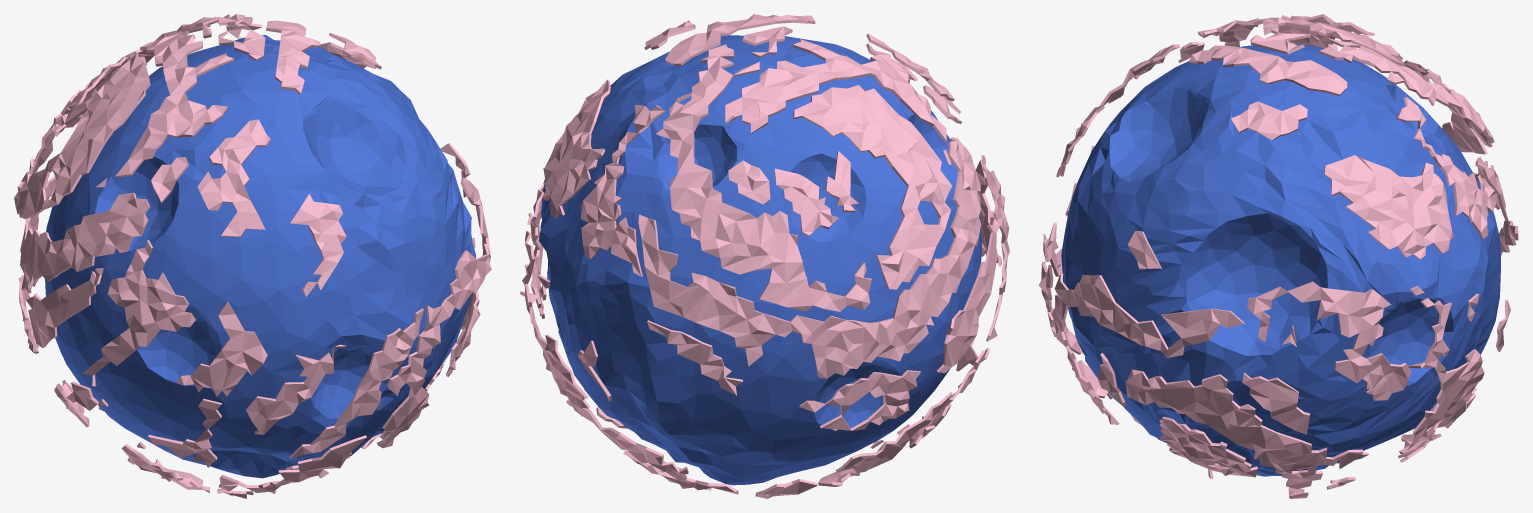
Rendered from Planet_4.glb.
3 views of the same model, side by side, from view 1: azimuth 30°, elevation 25°; view 2: azimuth 150°, elevation 25°; view 3: azimuth 270°, elevation 25° (orthographic). The views are drawn at different scales.
Visible parts, largest first — view 1: Planet_4; view 2: Planet_4; view 3: Planet_4.
Boxes of the visible parts, box(x1,y1,x2,y2) form: Planet_4: box(14, 14, 491, 498); Planet_4: box(520, 14, 1009, 498); Planet_4: box(1038, 14, 1518, 498).
Bounding box in the file's own units: 22.03 × 21.64 × 21.93.
Materials: 1 (1 with a texture image).
